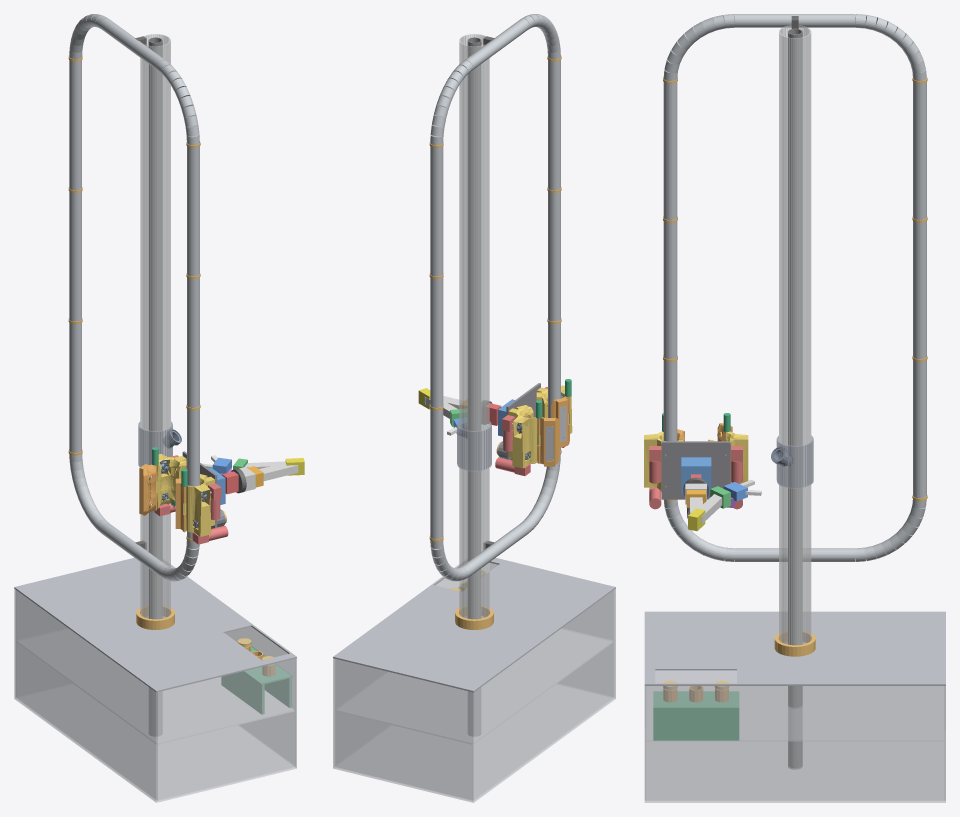
Rendered from transplant-seedling-step3-plug-v9.glb.
3 renders of one model, left to right at view 1: azimuth 30°, elevation 25°; view 2: azimuth 150°, elevation 25°; view 3: azimuth 270°, elevation 25°, orthographic. The views are drawn at different scales.
Bounding box in the file's own units: 0.4899 × 1.9 × 0.701.
